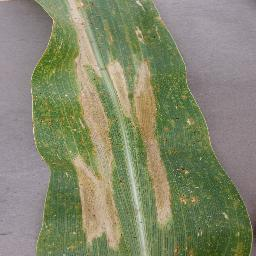Corn_Blight: (63, 150, 124, 255), (65, 0, 101, 149), (28, 18, 64, 154), (135, 130, 179, 226), (101, 59, 160, 129), (35, 155, 59, 256), (167, 240, 200, 255), (131, 23, 147, 47), (99, 130, 119, 149), (230, 239, 251, 256), (179, 194, 197, 208), (183, 114, 198, 127), (176, 89, 191, 101), (232, 197, 244, 209), (179, 166, 192, 174)
